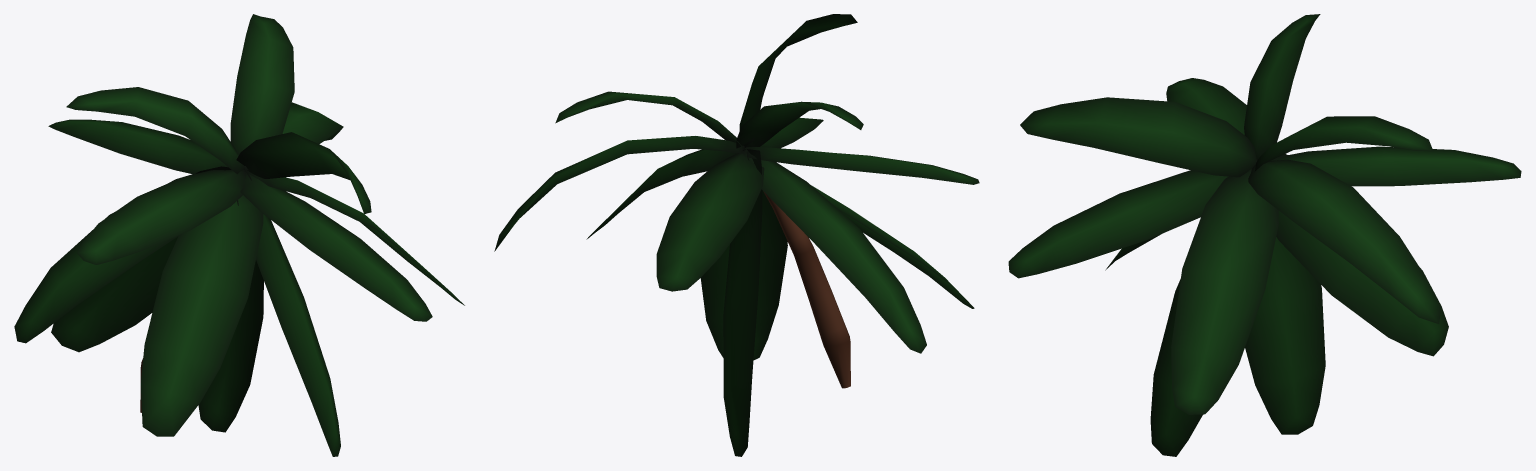
The model's file is BrTreeTop_1_v2.fbx.
3 renders of one model, left to right at view 1: azimuth 30°, elevation 25°; view 2: azimuth 150°, elevation 25°; view 3: azimuth 270°, elevation 25°, orthographic. The views are drawn at different scales.
Visible parts, largest first — view 1: Tree_2_v2; view 2: Tree_2_v2; view 3: Tree_2_v2.
Part boxes in pixels (bbox=[...]): Tree_2_v2: bbox=[14, 14, 464, 456]; Tree_2_v2: bbox=[494, 14, 979, 456]; Tree_2_v2: bbox=[1008, 14, 1521, 456].
Bounding box in the file's own units: 288 × 254 × 325.
